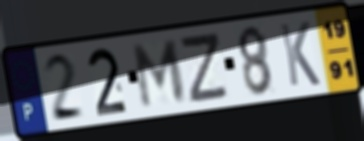2: (39, 52, 86, 124), (86, 45, 129, 119)
8: (236, 24, 276, 99)
K: (277, 19, 323, 89)
M: (132, 38, 188, 111)
Z: (179, 30, 231, 106)
